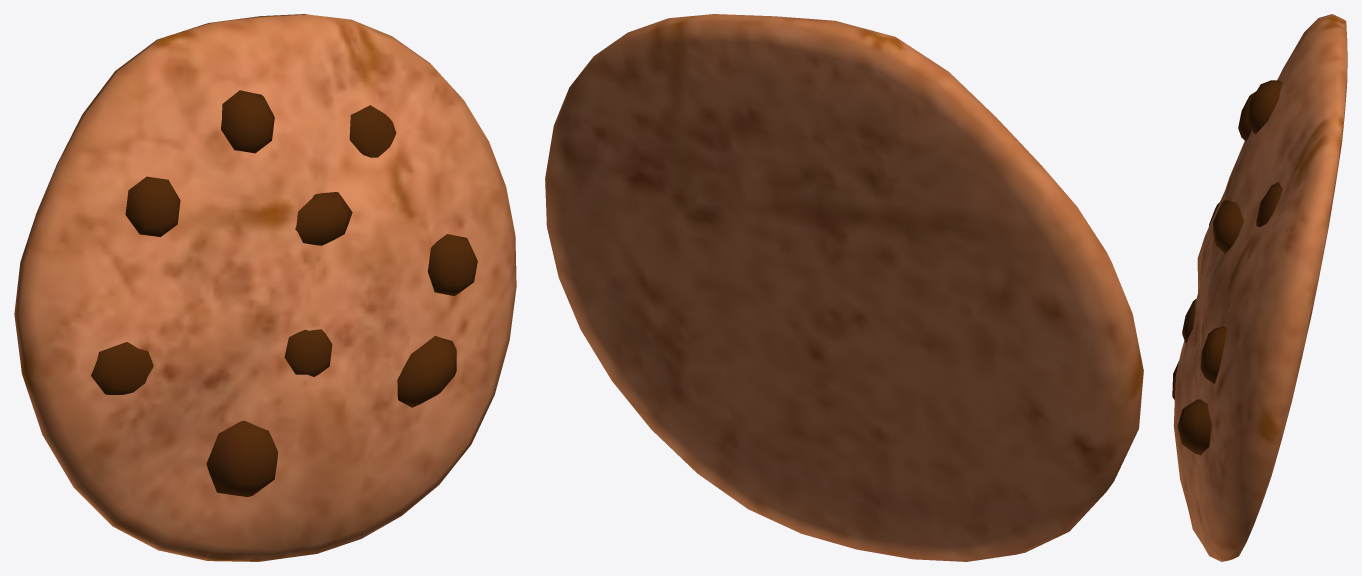
The picture shows the model from 3 angles, left to right: view 1: azimuth 30°, elevation 25°; view 2: azimuth 150°, elevation 25°; view 3: azimuth 270°, elevation 25°; orthographic projection. The views are drawn at different scales.
Parts seen in each view (by area): view 1: Circle.002_Xma Cookie 23_Material_0; view 2: Circle.002_Xma Cookie 23_Material_0; view 3: Circle.002_Xma Cookie 23_Material_0.
Part boxes in pixels (box(x1,y1,x2,y2)): Circle.002_Xma Cookie 23_Material_0: box(14, 14, 516, 561); Circle.002_Xma Cookie 23_Material_0: box(545, 14, 1143, 561); Circle.002_Xma Cookie 23_Material_0: box(1172, 14, 1347, 561).
Bounding box in the file's own units: 1.42 × 1.35 × 0.4495.
1 material, 1 textured.
